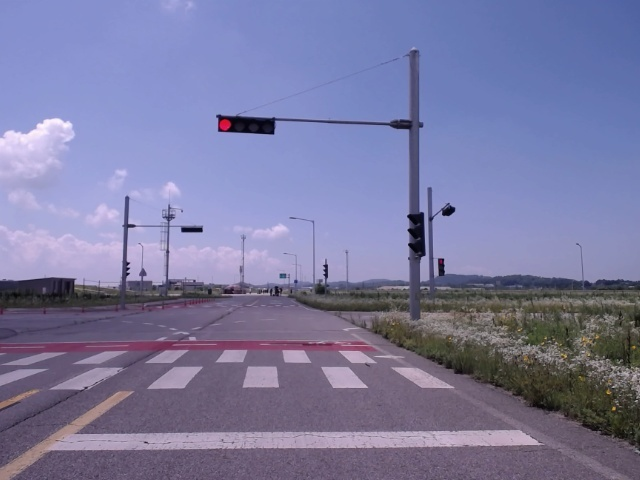red_4: (218, 116, 274, 135)
